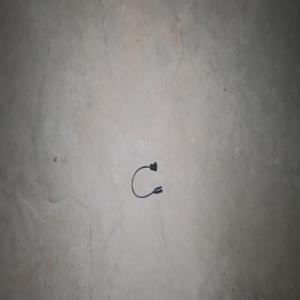Wire: (131, 161, 162, 198)
